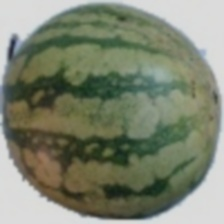watermelon: (39, 19, 212, 211)
